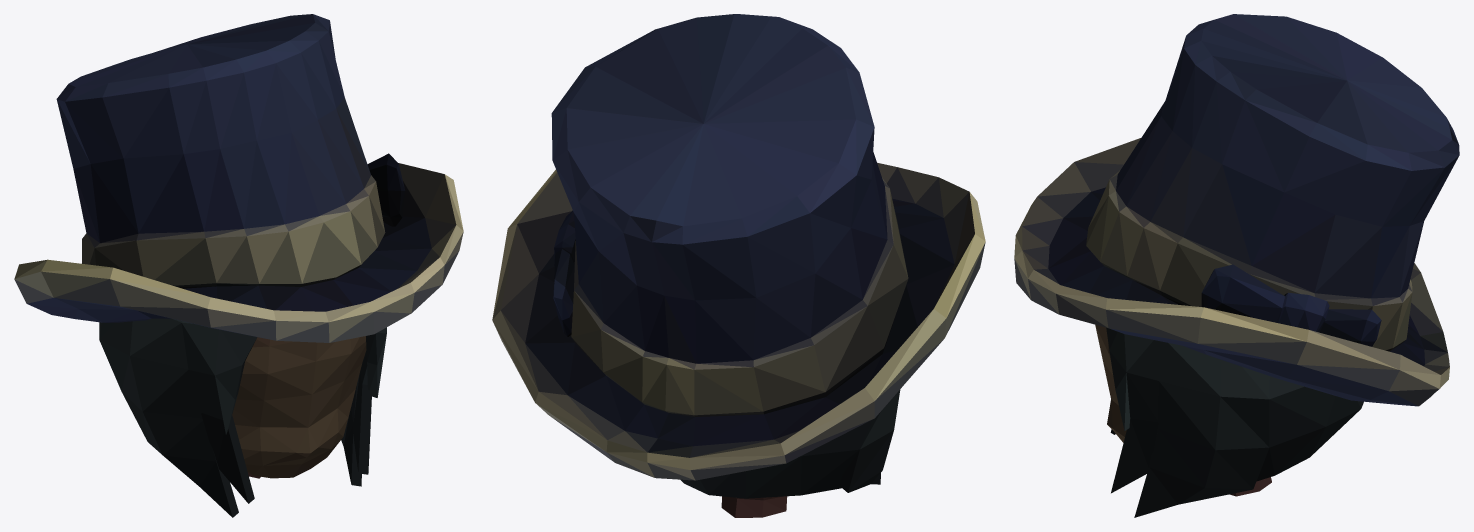
Rendered from helm_darkskin_bob_black_tophat.fbx.
3 renders of one model, left to right at view 1: azimuth 30°, elevation 25°; view 2: azimuth 150°, elevation 25°; view 3: azimuth 270°, elevation 25°, orthographic. The views are drawn at different scales.
Visible parts, largest first — view 1: helm_darkskin_bob_black_tophat; view 2: helm_darkskin_bob_black_tophat; view 3: helm_darkskin_bob_black_tophat.
Boxes of the visible parts, x1,y1,x2,y2 form: helm_darkskin_bob_black_tophat: (14, 14, 463, 517); helm_darkskin_bob_black_tophat: (492, 14, 985, 517); helm_darkskin_bob_black_tophat: (1014, 14, 1459, 517).
Size of the model in its own units: 1.68 by 1.83 by 1.64.
